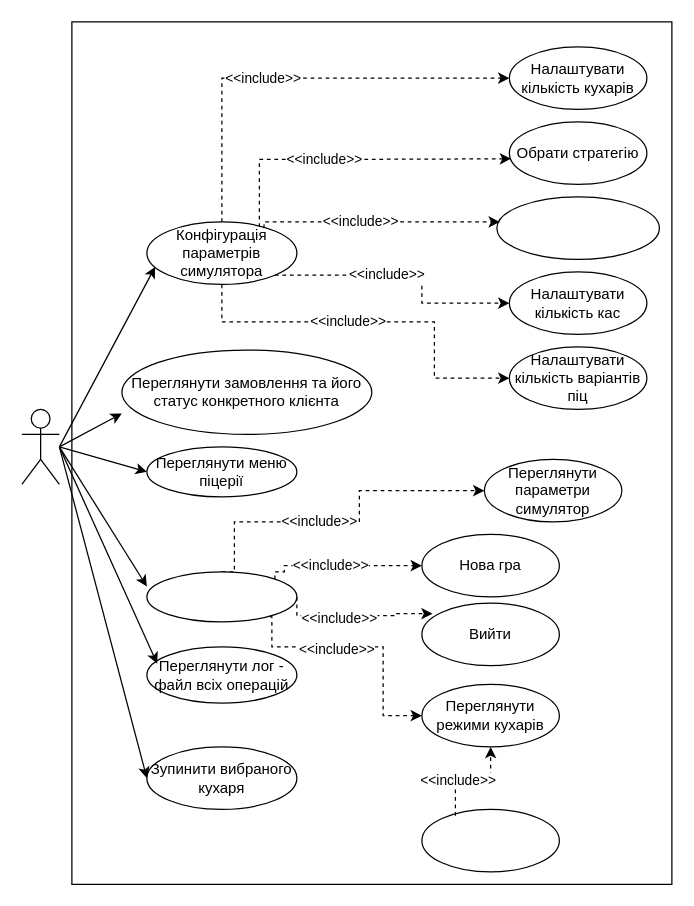
This 694x906 diagram has some shape labels left out. Here are the shapes that lost their labels. From the top down, the centre of each, then its label:
(577,227): Налаштувати час випічки і замовлення піци
(40,446): User
(221,596): Переглянути налаштування
(490,840): Змінити режим одного з кухарів
